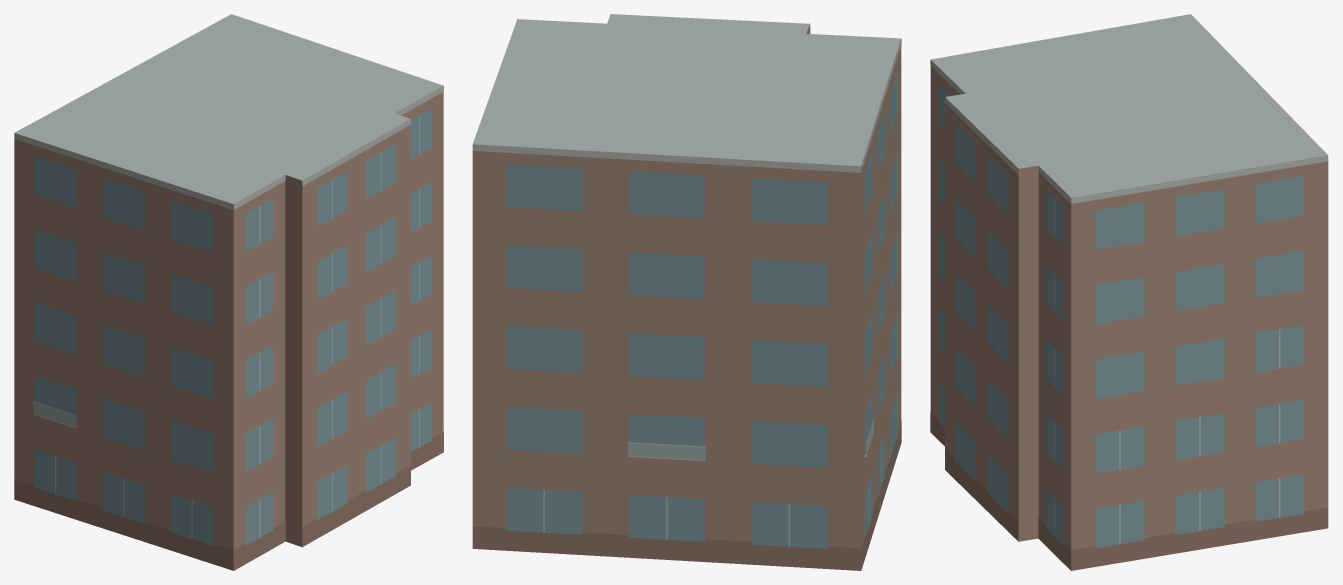
Rendered from survey-upis-32927590.glb.
3 views of the same model, side by side, from view 1: azimuth 30°, elevation 25°; view 2: azimuth 150°, elevation 25°; view 3: azimuth 270°, elevation 25° (orthographic). The views are drawn at different scales.
Visible parts, largest first — view 1: survey-upis-32927590.tmp; view 2: survey-upis-32927590.tmp; view 3: survey-upis-32927590.tmp.
Part boxes in pixels (<box>): survey-upis-32927590.tmp: <box>14,14,443,570</box>; survey-upis-32927590.tmp: <box>472,14,901,570</box>; survey-upis-32927590.tmp: <box>930,14,1328,570</box>.
Size of the model in its own units: 15.88 by 15 by 14.51.
